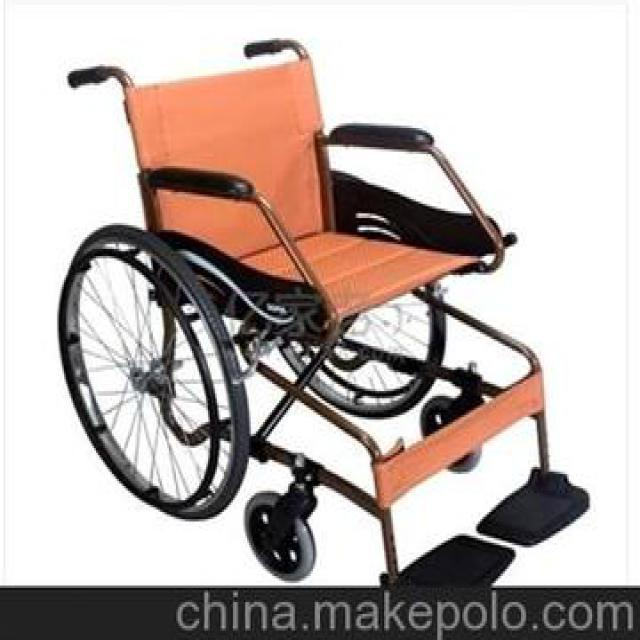wheelchairs: (58, 36, 594, 586)
